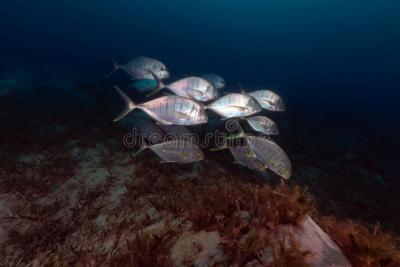Carangidae -Jacks-: (111, 83, 209, 135), (224, 121, 299, 188), (126, 130, 210, 167), (172, 90, 263, 118), (102, 50, 178, 83)
